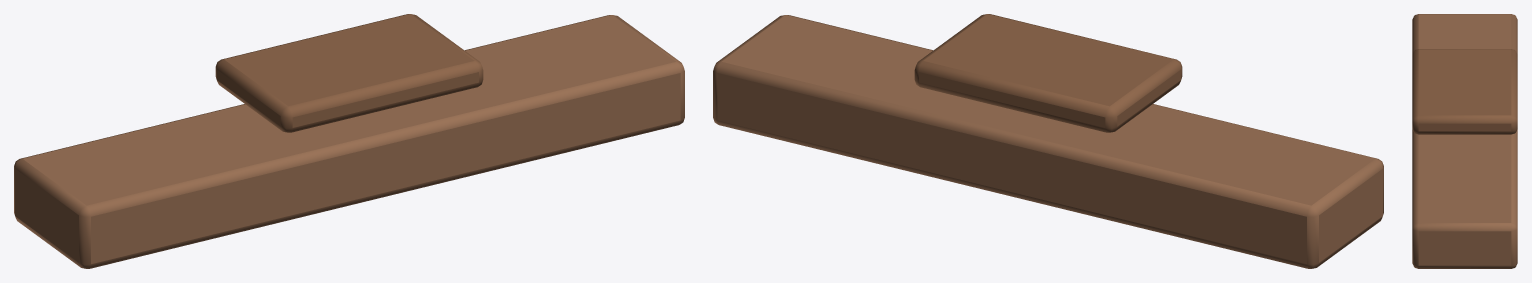
File: SM_FOD_JERKY_STRIP.fbx
3 views of the same model, side by side, from view 1: azimuth 30°, elevation 25°; view 2: azimuth 150°, elevation 25°; view 3: azimuth 270°, elevation 25° (orthographic). The views are drawn at different scales.
Parts seen in each view (by area): view 1: SM_FOD_JERKY_STRIP; view 2: SM_FOD_JERKY_STRIP; view 3: SM_FOD_JERKY_STRIP.
Part boxes in pixels (x1,y1,x2,y2): SM_FOD_JERKY_STRIP: (14,14,684,268); SM_FOD_JERKY_STRIP: (713,14,1383,268); SM_FOD_JERKY_STRIP: (1412,14,1517,268).
Size of what is drawn, in the model's own units: 0.12 by 0.0215 by 0.025.
